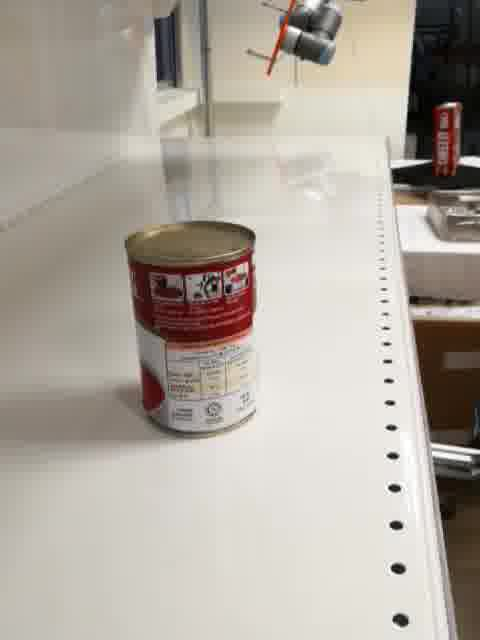tomatosoup: (123, 220, 258, 439)
